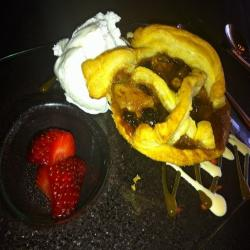apple_pie: (92, 22, 236, 172)
icecream: (47, 14, 130, 116)
